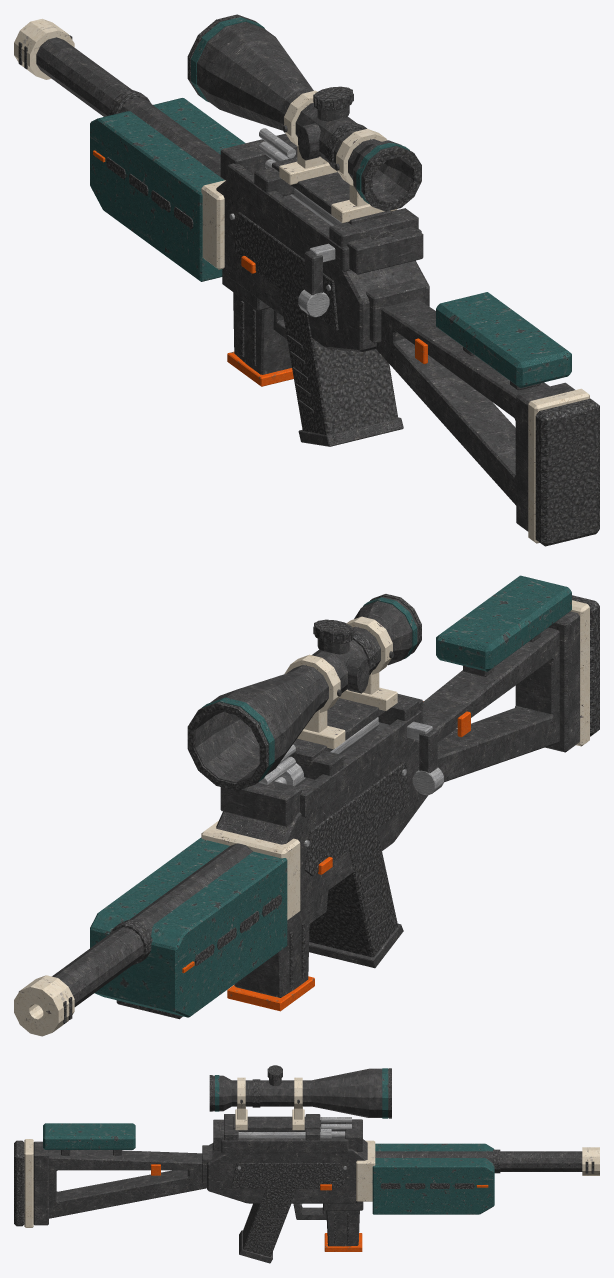
Rendered from peregrine.glb.
3 renders of one model, top to bottom at view 1: azimuth 30°, elevation 25°; view 2: azimuth 150°, elevation 25°; view 3: azimuth 270°, elevation 25°, orthographic. The views are drawn at different scales.
Visible parts, largest first — view 1: Continuous teal fore-end, Stock triangular chassis, Scope main hollow housing, Pistol grip core, Stock recoil pad, Receiver lower chassis, Teal cheek pad, Barrel hollow tube, Receiver side inset, Action channel left, Magazine shell, Action rear bridge (+20 smaller); view 2: Continuous teal fore-end, Stock triangular chassis, Scope main hollow housing, Teal cheek pad, Receiver lower chassis, Pistol grip core, Barrel hollow tube, Receiver side inset, Action channel left, Stock rear stanchion, Action front bridge, Muzzle ivory collar (+20 smaller); view 3: Continuous teal fore-end, Stock triangular chassis, Scope main hollow housing, Receiver lower chassis, Receiver side inset.001, Barrel hollow tube, Teal cheek pad, Pistol grip core, Action channel right, Stock rear stanchion, Magazine shell, Scope mounting rail (+16 smaller).
Boxes of the visible parts, x1,y1,x2,y2 form: Continuous teal fore-end: (90, 98, 245, 281); Stock triangular chassis: (375, 299, 549, 505); Scope main hollow housing: (192, 21, 412, 202); Pistol grip core: (278, 288, 397, 435); Stock recoil pad: (535, 398, 599, 546); Receiver lower chassis: (216, 180, 429, 351); Teal cheek pad: (436, 292, 571, 387); Barrel hollow tube: (36, 37, 225, 180); Receiver side inset: (232, 212, 338, 330); Action channel left: (228, 163, 350, 271); Magazine shell: (233, 292, 291, 374); Action rear bridge: (347, 226, 423, 274); Continuous teal fore-end: (90, 837, 287, 1017); Stock triangular chassis: (423, 627, 559, 782); Scope main hollow housing: (194, 596, 418, 783); Teal cheek pad: (436, 575, 571, 671); Receiver lower chassis: (216, 729, 427, 910); Pistol grip core: (309, 829, 397, 957); Barrel hollow tube: (52, 843, 252, 1006); Receiver side inset: (304, 762, 410, 876); Action channel left: (300, 710, 421, 817); Stock rear stanchion: (545, 611, 579, 752); Action front bridge: (220, 781, 301, 826); Muzzle ivory collar: (14, 975, 74, 1036); Continuous teal fore-end: (372, 1143, 494, 1214); Stock triangular chassis: (49, 1150, 206, 1218); Scope main hollow housing: (212, 1068, 388, 1117); Receiver lower chassis: (207, 1137, 367, 1203); Receiver side inset.001: (231, 1163, 345, 1188); Barrel hollow tube: (375, 1151, 582, 1171); Teal cheek pad: (43, 1123, 135, 1149); Pistol grip core: (243, 1188, 296, 1256); Action channel right: (221, 1138, 348, 1153); Stock rear stanchion: (33, 1141, 48, 1225); Magazine shell: (326, 1210, 359, 1246); Scope mounting rail: (233, 1116, 320, 1131).
Bounding box in the file's own units: 0.144 × 0.4042 × 1.17.
6 materials, 6 textured.
